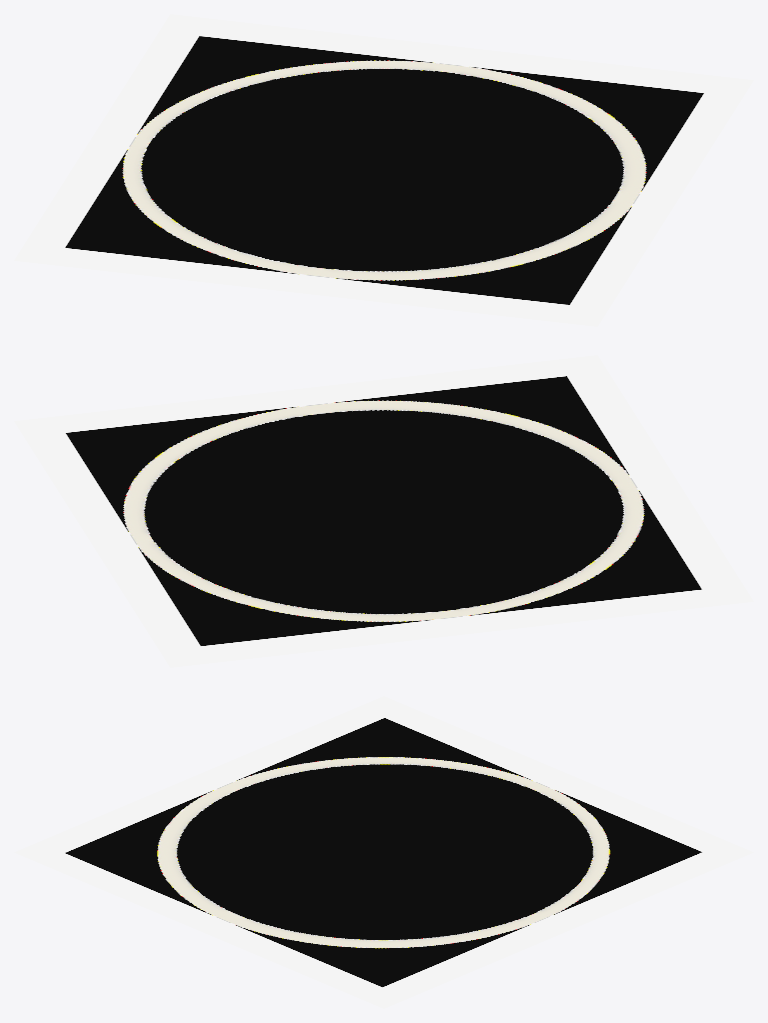
The model's file is animated-circle.glb.
3 views of the same model, one above another, from view 1: azimuth 30°, elevation 25°; view 2: azimuth 150°, elevation 25°; view 3: azimuth 270°, elevation 25° (orthographic). The views are drawn at different scales.
Parts seen in each view (by area): view 1: Plane.001; view 2: Plane.001; view 3: Plane.001.
Boxes of the visible parts, bbox=[...] form: Plane.001: bbox=[14, 14, 753, 326]; Plane.001: bbox=[14, 355, 753, 667]; Plane.001: bbox=[14, 696, 753, 1008].
Bounding box in the file's own units: 23.71 × 0 × 23.71.
Materials: 1 (1 with a texture image).
